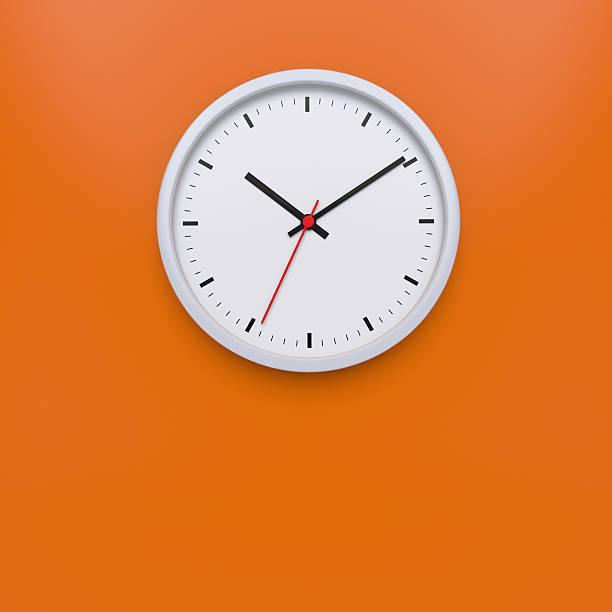clock: (156, 61, 469, 386)
